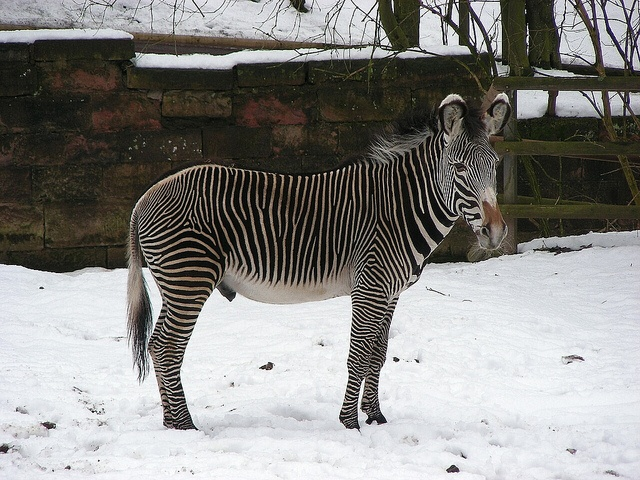zebra: (125, 88, 511, 433)
